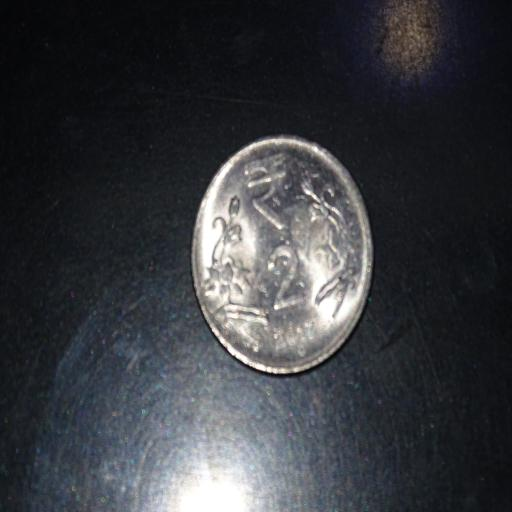rupee2: (192, 130, 372, 379)
